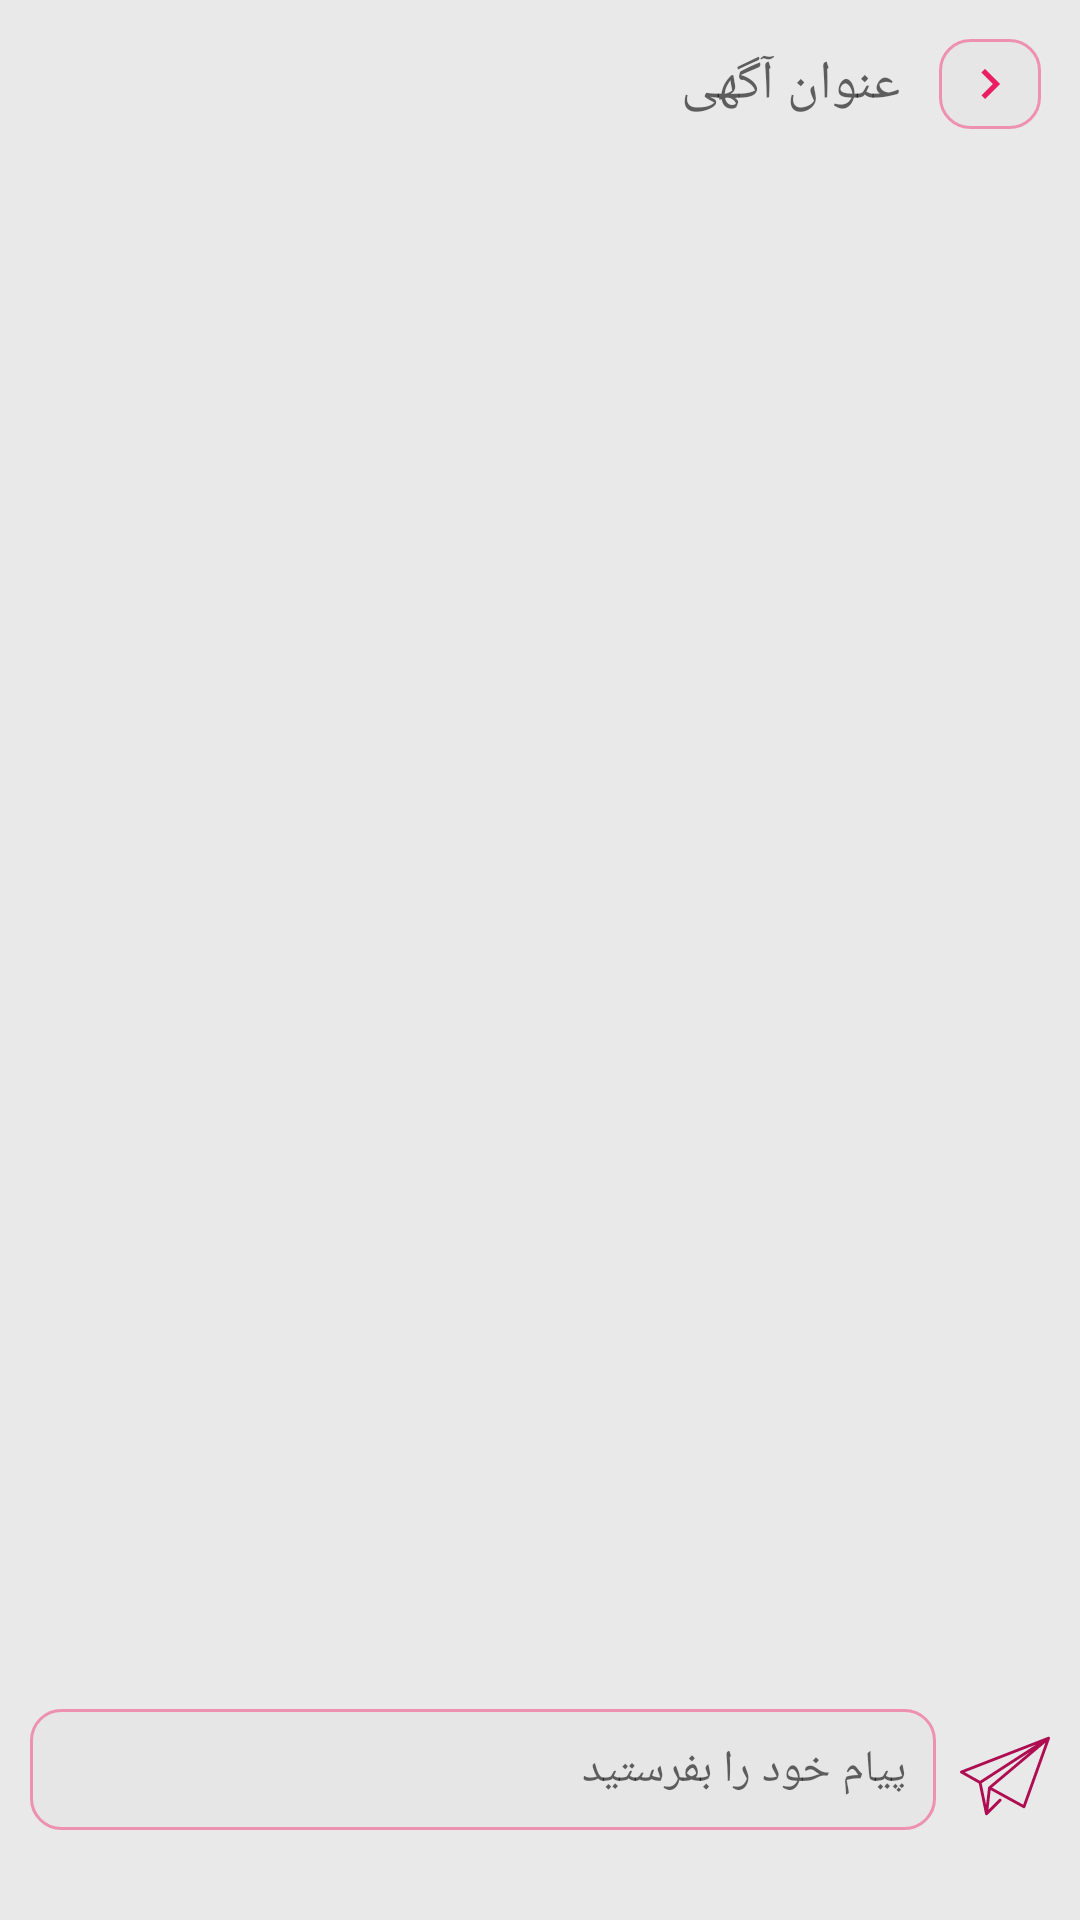

Named icons in this screenshot (1080x1920) and their centers, point (x, y):
send: point (1005, 1776)
